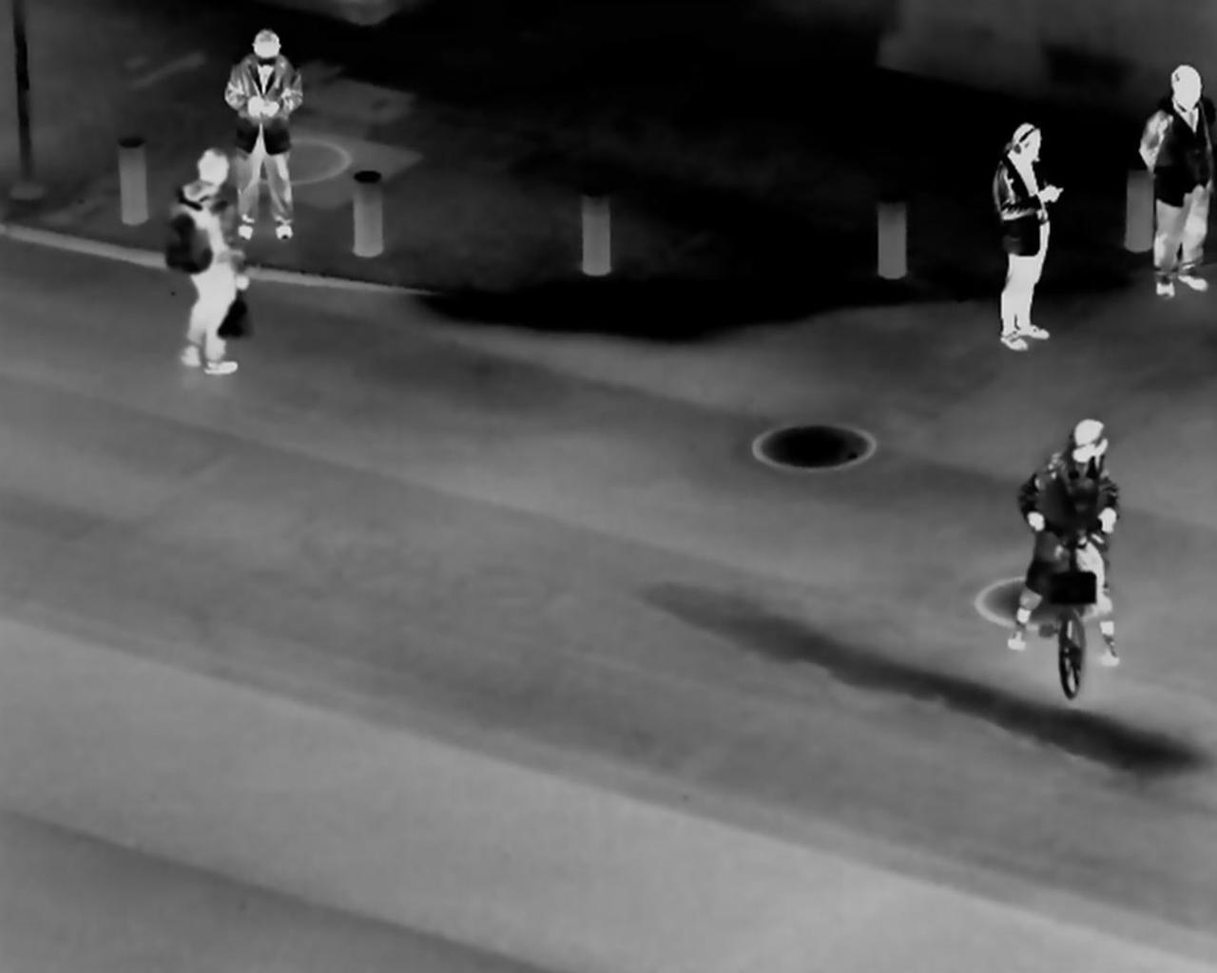person: (1006, 401, 1127, 702), (976, 105, 1072, 363), (159, 143, 262, 376), (216, 17, 311, 240), (1130, 66, 1217, 301)
